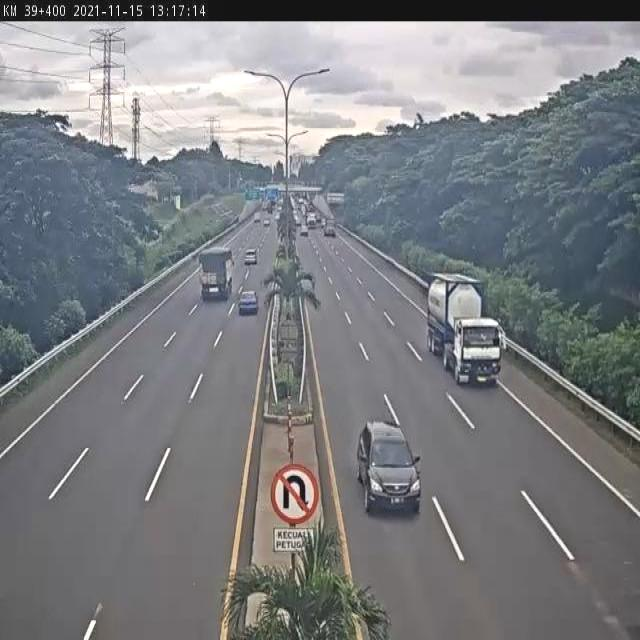Car: (357, 419, 424, 522), (238, 290, 259, 315), (244, 248, 257, 265), (324, 224, 336, 236), (300, 224, 309, 236), (263, 217, 271, 226), (254, 212, 261, 222), (319, 218, 326, 228)
Truck: (426, 268, 506, 385), (199, 249, 234, 301)
